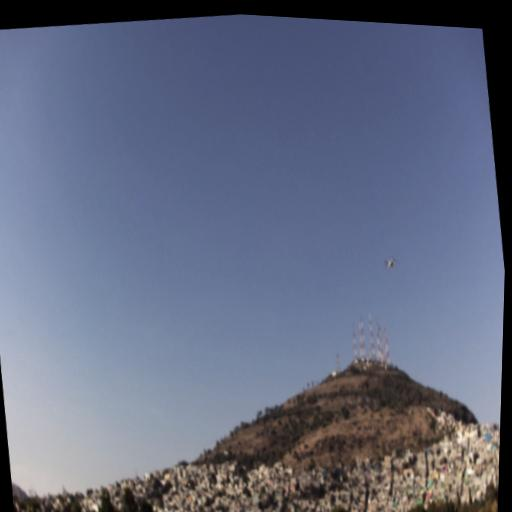drones: (383, 253, 399, 272)
